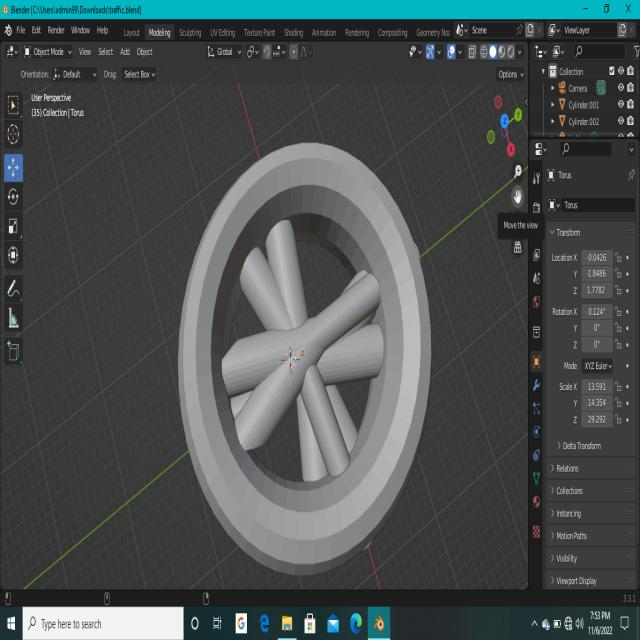person: (137, 118, 464, 582)
